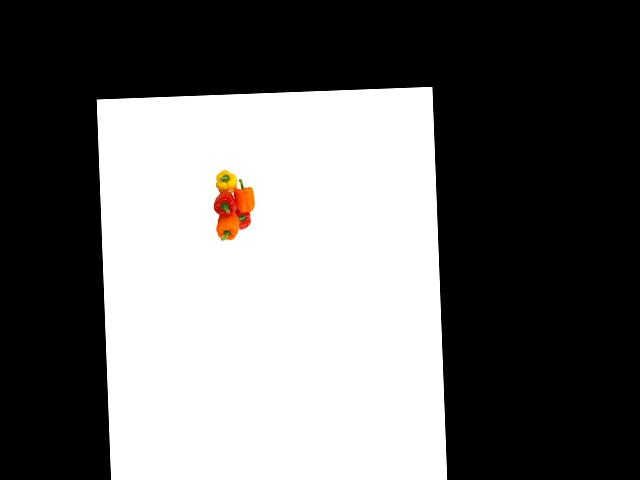bell_pepper: (213, 211, 242, 247)
